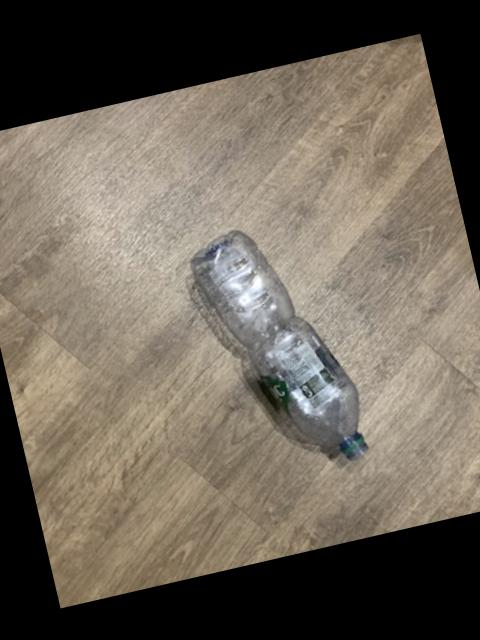plastic: (194, 231, 370, 460)
